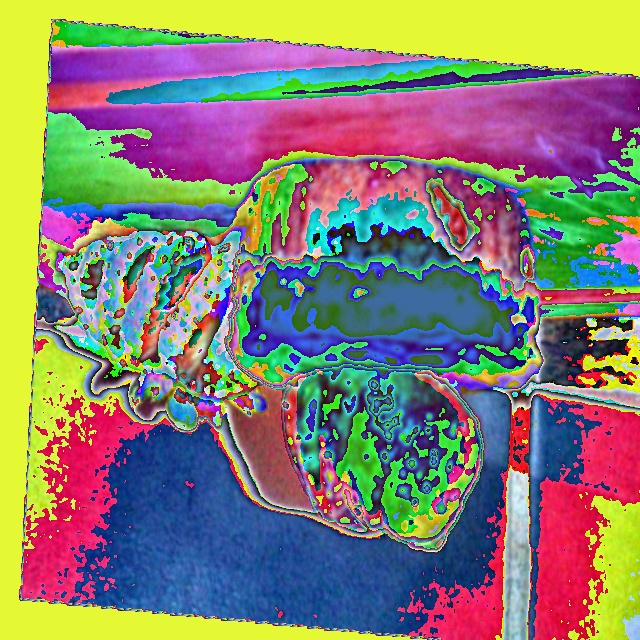background: (62, 159, 546, 553)
